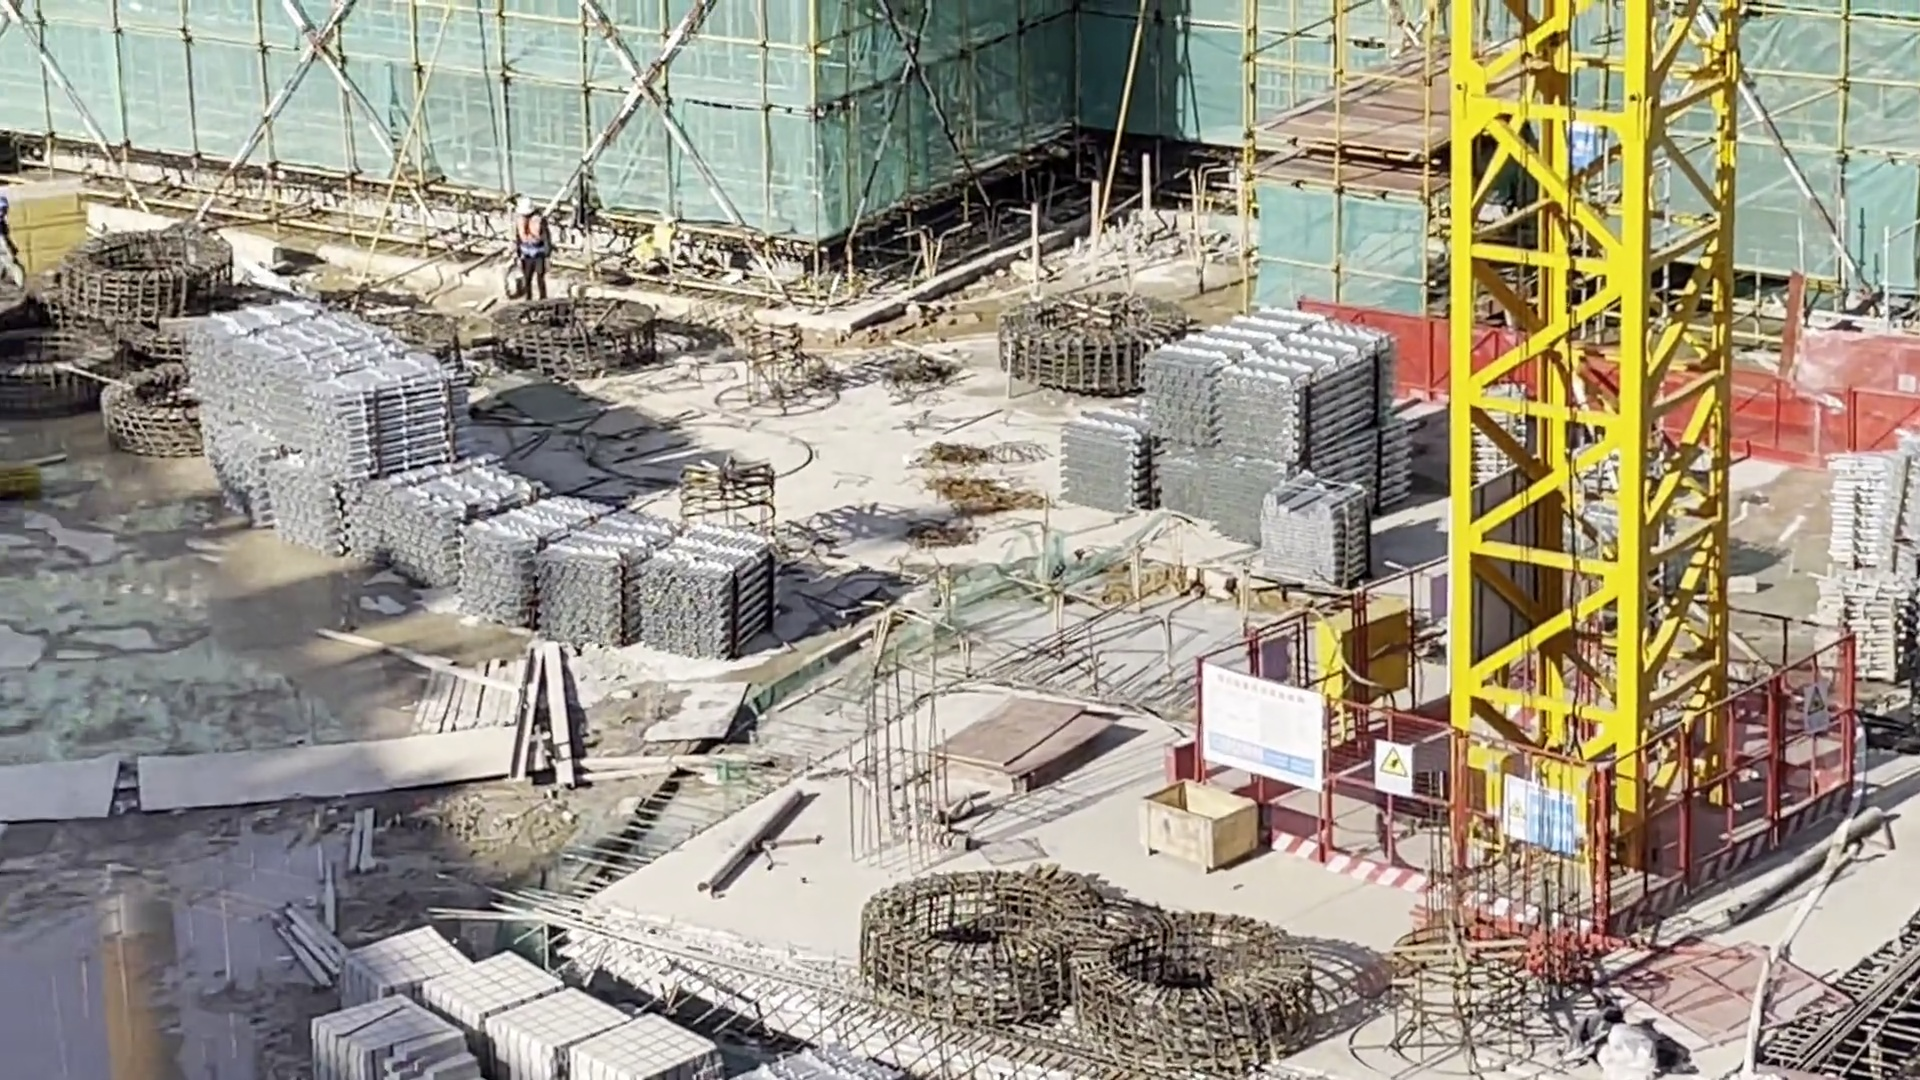board: (13, 161, 88, 256)
ebox: (1471, 727, 1591, 834), (1313, 587, 1391, 699)
fence: (1216, 684, 1601, 932), (1381, 319, 1920, 470), (1608, 651, 1851, 897)
helmet: (514, 193, 534, 214), (3, 187, 11, 214)
person: (511, 203, 553, 303), (1, 190, 28, 281)
scaffold: (204, 321, 393, 531), (1183, 332, 1393, 514), (1814, 444, 1920, 674), (383, 459, 499, 586), (1074, 397, 1178, 524), (658, 532, 738, 631), (574, 517, 653, 609), (494, 506, 559, 597)
vest: (1, 233, 16, 266)
